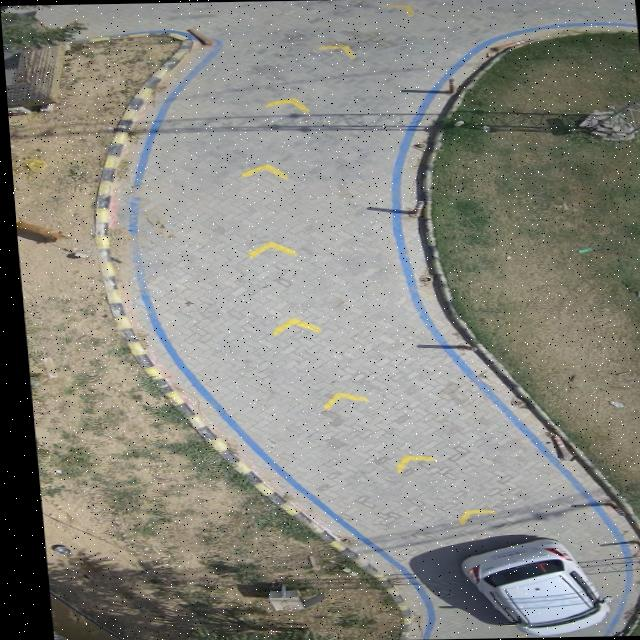car: (451, 538, 602, 636)
